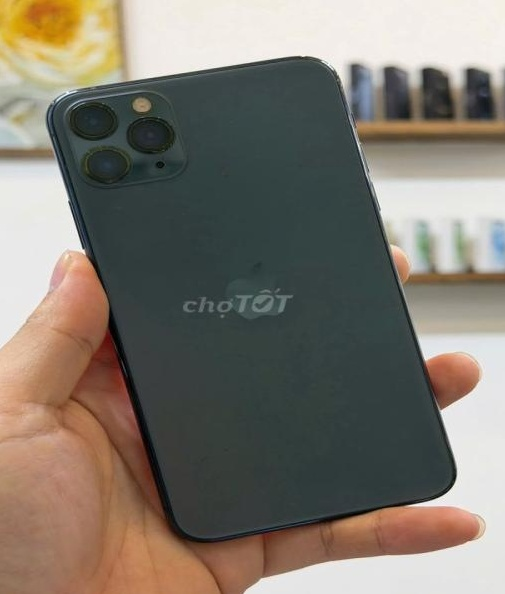scratch: (81, 141, 131, 158), (83, 96, 121, 118), (209, 164, 238, 191), (339, 132, 375, 152), (294, 48, 326, 70), (325, 67, 345, 97), (153, 136, 179, 156), (143, 110, 173, 124), (80, 80, 108, 95), (72, 163, 98, 179)
